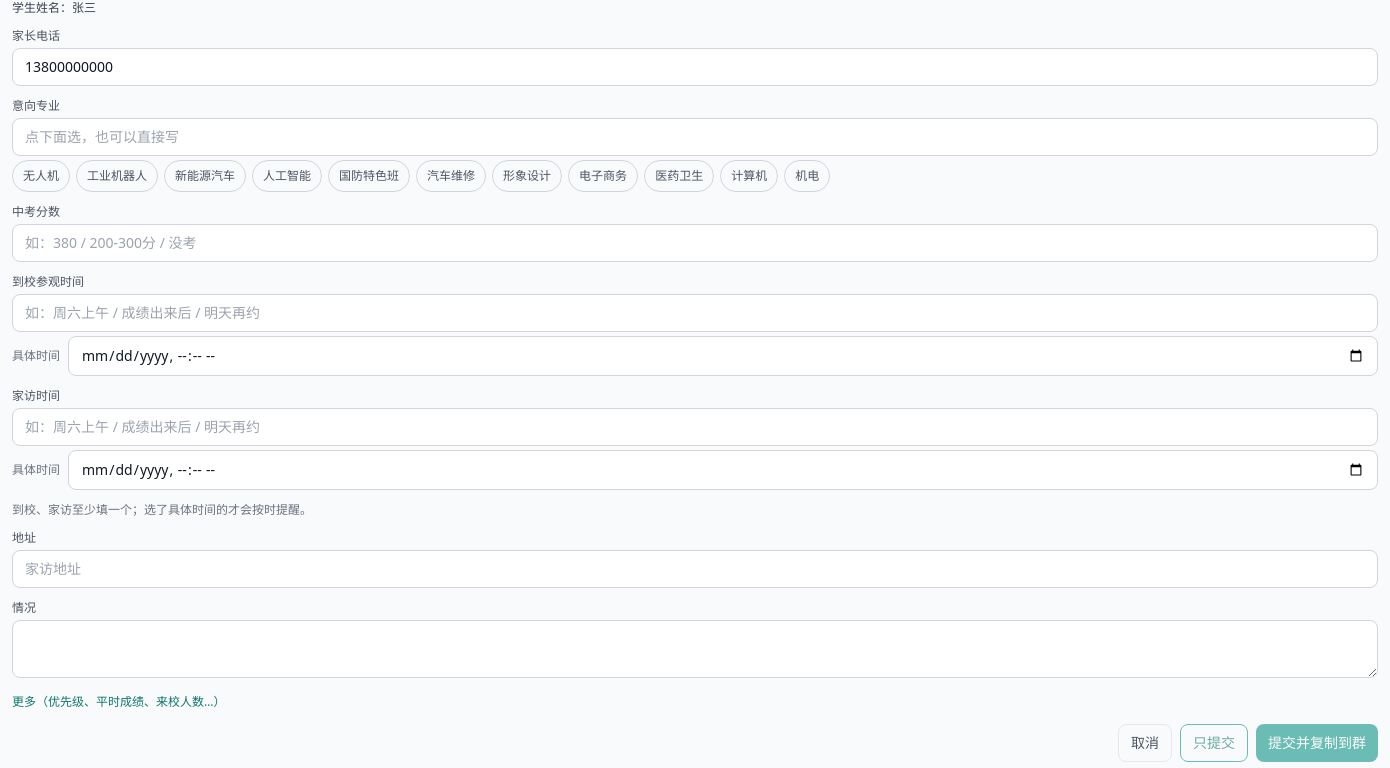
Test: VisitReportForm › keeps the optional fields folded away until asked for
The width and height of the screenshot is (1390, 768).
Click the button "更多（优先级、平时成绩、来校人数…）": (119,702) x1=12 y1=694 x2=226 y2=710
(page scrolled)
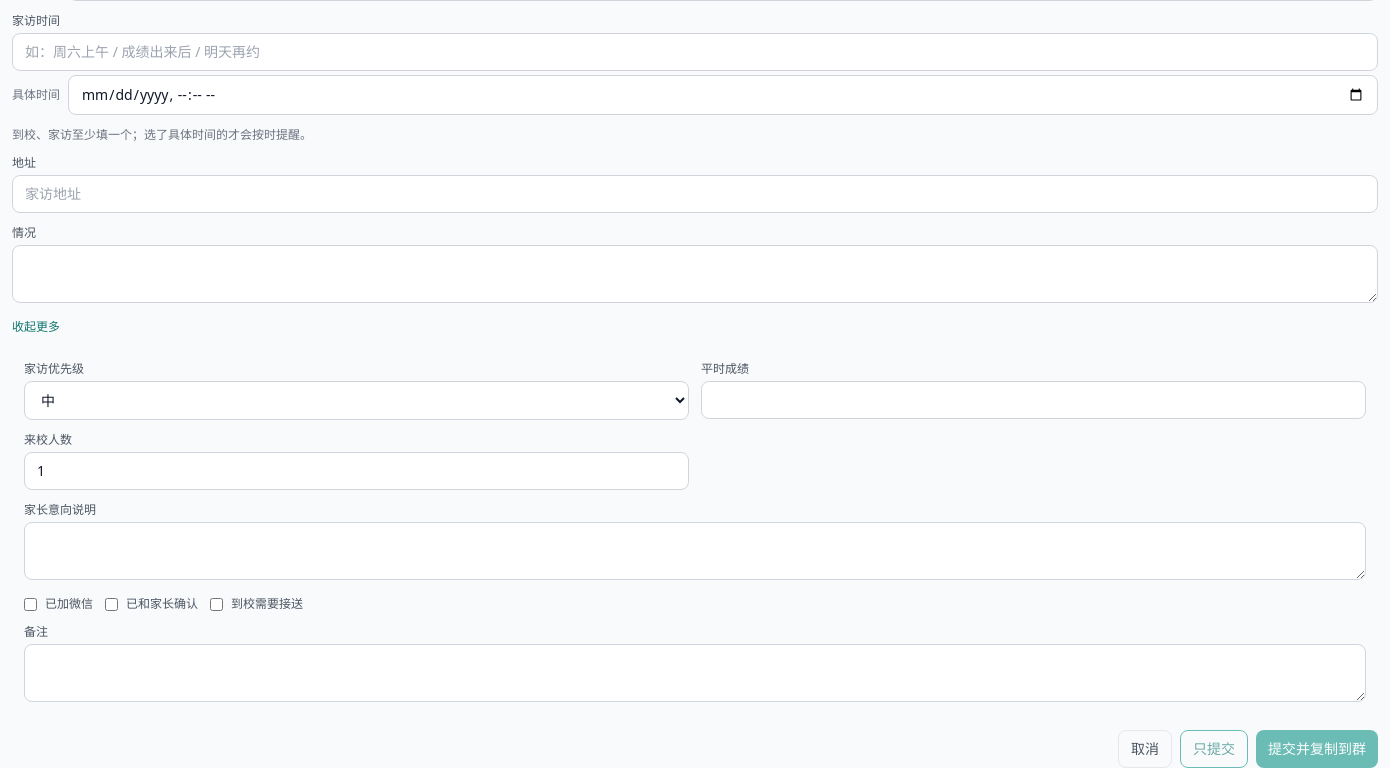
Expected: the number field labelled "平时成绩" is shown, x1=701 y1=381 x2=1366 y2=419
